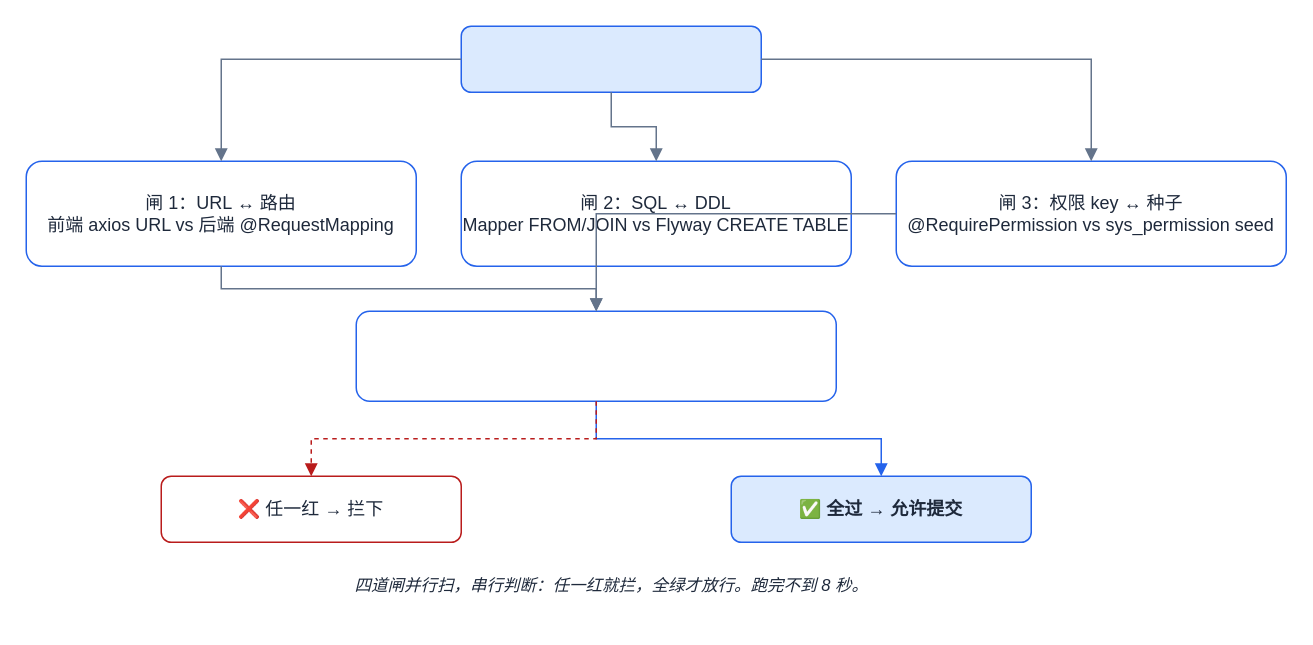
The diagram is 1313 pixels wide and 645 high, and some of its shapes have lost their labels. The centre of each missing label's shape, as x and y in pixels:
"git commit" belongs at pixel 610 58.
"闸 4：迁移版本号唯一 V{N}__*.sql 不能重复" belongs at pixel 595 355.
